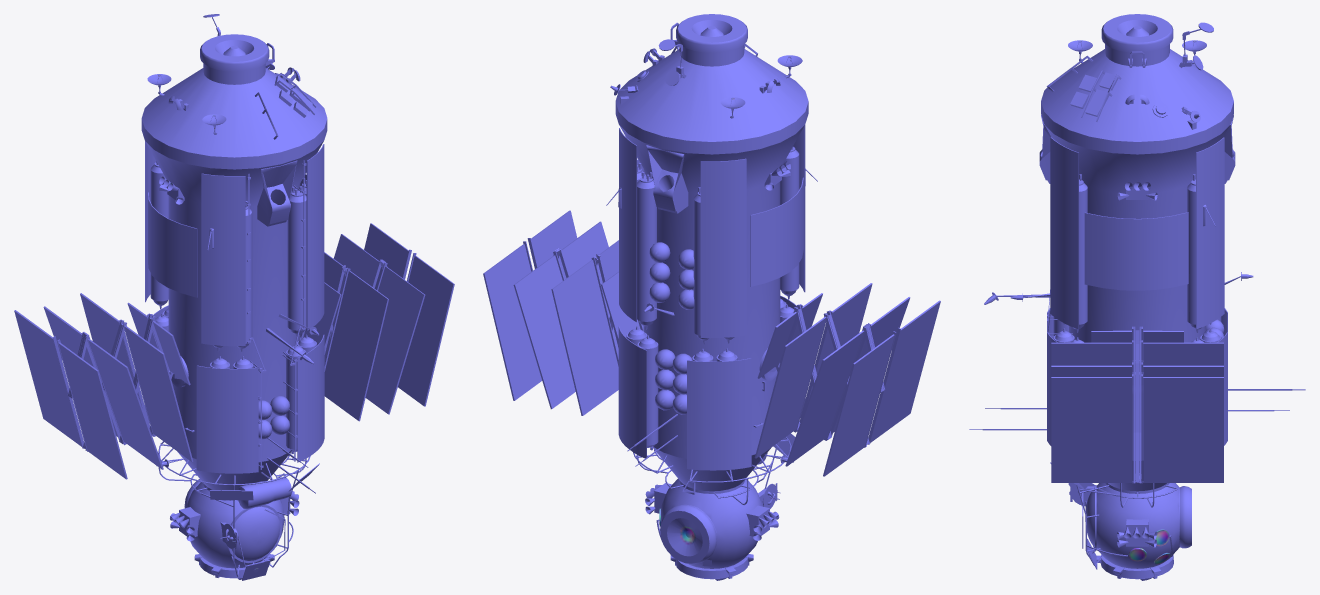
File: Module_Zarya.fbx
3 views of the same model, side by side, from view 1: azimuth 30°, elevation 25°; view 2: azimuth 150°, elevation 25°; view 3: azimuth 270°, elevation 25° (orthographic). The views are drawn at different scales.
Visible parts, largest first — view 1: Module_Zarya; view 2: Module_Zarya; view 3: Module_Zarya.
Boxes of the visible parts, x1=… form: Module_Zarya: x1=14, y1=14, x2=454, y2=580; Module_Zarya: x1=483, y1=14, x2=940, y2=580; Module_Zarya: x1=969, y1=14, x2=1305, y2=580.
Bounding box in the file's own units: 510 × 723 × 398.
